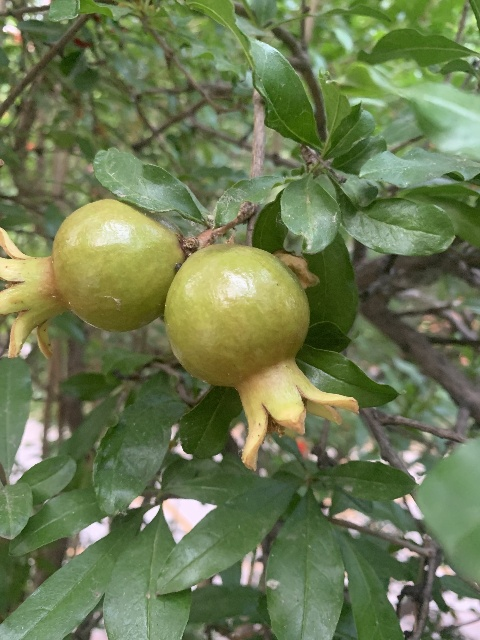mid-growth: (165, 242, 359, 476), (0, 197, 182, 365)
